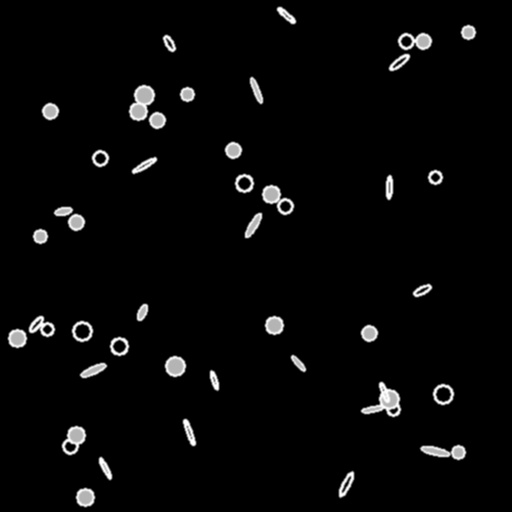pseudomonas: (243, 212, 263, 238), (337, 470, 355, 498), (131, 156, 157, 174), (80, 361, 106, 379), (420, 444, 450, 458), (388, 53, 410, 71), (182, 418, 196, 446), (249, 77, 263, 103), (276, 6, 296, 24), (98, 457, 112, 479), (28, 315, 44, 333), (290, 355, 306, 371), (413, 283, 431, 297), (162, 34, 176, 52), (378, 382, 390, 402), (136, 303, 148, 321), (209, 371, 219, 389), (361, 405, 383, 413), (55, 206, 71, 216), (386, 176, 392, 198)
synechocystis: (166, 357, 184, 375), (135, 86, 153, 104), (73, 322, 91, 340), (380, 390, 398, 408), (434, 385, 452, 403), (77, 489, 93, 505), (236, 175, 252, 191), (130, 103, 146, 119), (263, 186, 279, 202), (266, 317, 282, 333), (111, 338, 127, 354), (9, 330, 25, 346), (68, 427, 84, 443), (63, 439, 77, 453), (362, 326, 376, 340), (43, 104, 57, 118), (150, 113, 164, 127), (93, 151, 107, 165), (226, 143, 240, 157), (278, 199, 292, 213), (69, 215, 83, 229), (399, 34, 413, 48), (416, 34, 430, 48), (462, 26, 474, 38), (387, 403, 399, 415), (452, 446, 464, 458), (429, 171, 441, 183), (41, 323, 53, 335), (181, 88, 193, 100), (34, 230, 46, 242)
